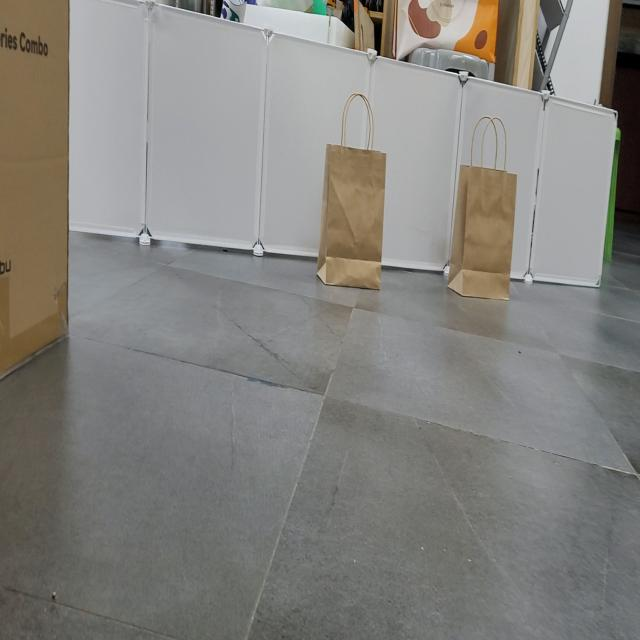paper bag: (317, 91, 388, 294), (446, 118, 520, 302)
